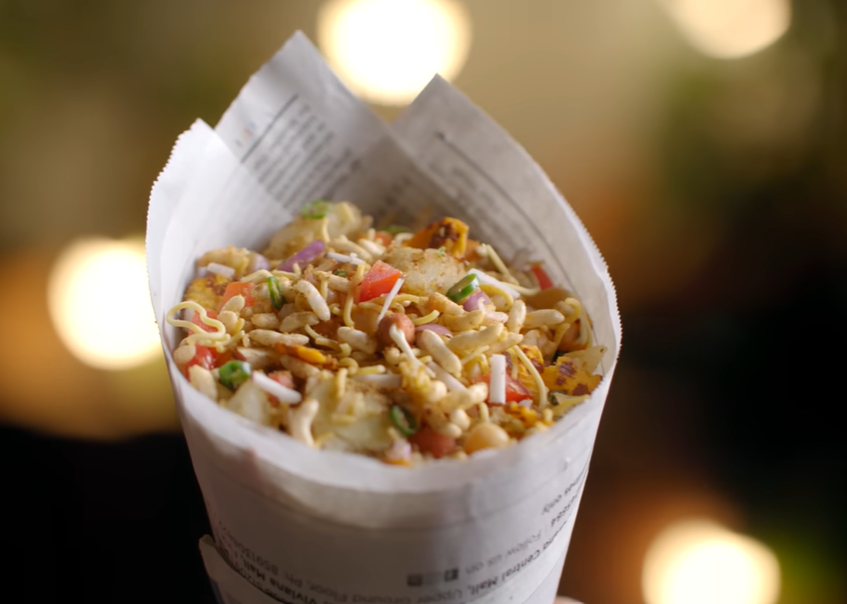chatpate: (200, 206, 559, 453)
